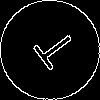T: (25, 25, 80, 77)
